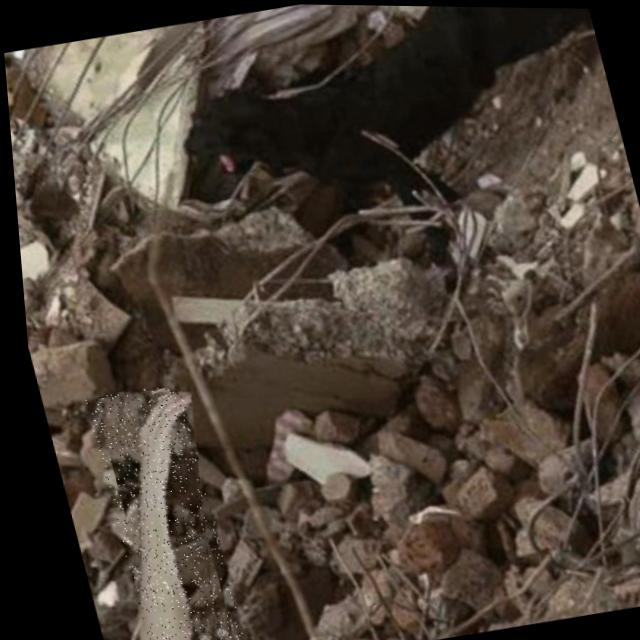Person in Rubble: (76, 380, 236, 640)
